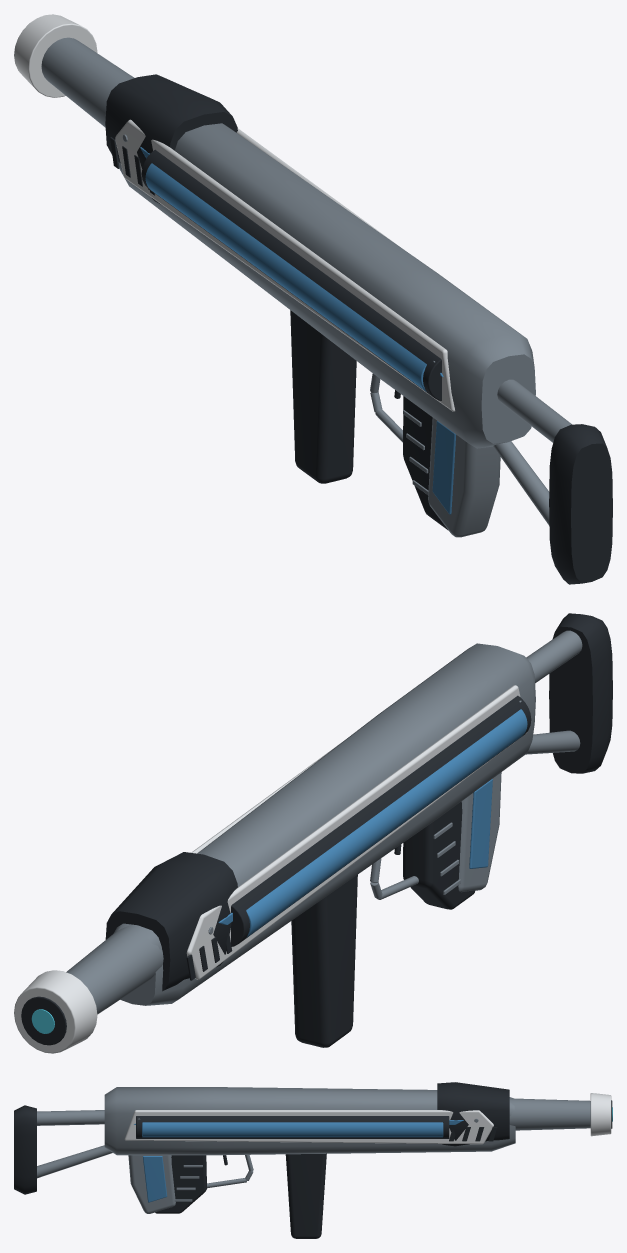
File: blaster-f-mk4.glb
3 views of the same model, one above another, from view 1: azimuth 30°, elevation 25°; view 2: azimuth 150°, elevation 25°; view 3: azimuth 270°, elevation 25° (orthographic). The views are drawn at different scales.
Visible parts, largest first — view 1: Pink War IV / thorn; view 2: Pink War IV / thorn; view 3: Pink War IV / thorn.
Boxes of the visible parts, <box> form: Pink War IV / thorn: <box>14,14,612,584</box>; Pink War IV / thorn: <box>14,613,612,1053</box>; Pink War IV / thorn: <box>14,1082,612,1238</box>.
Size of the model in its own units: 0.112 by 0.2726 by 0.996.
